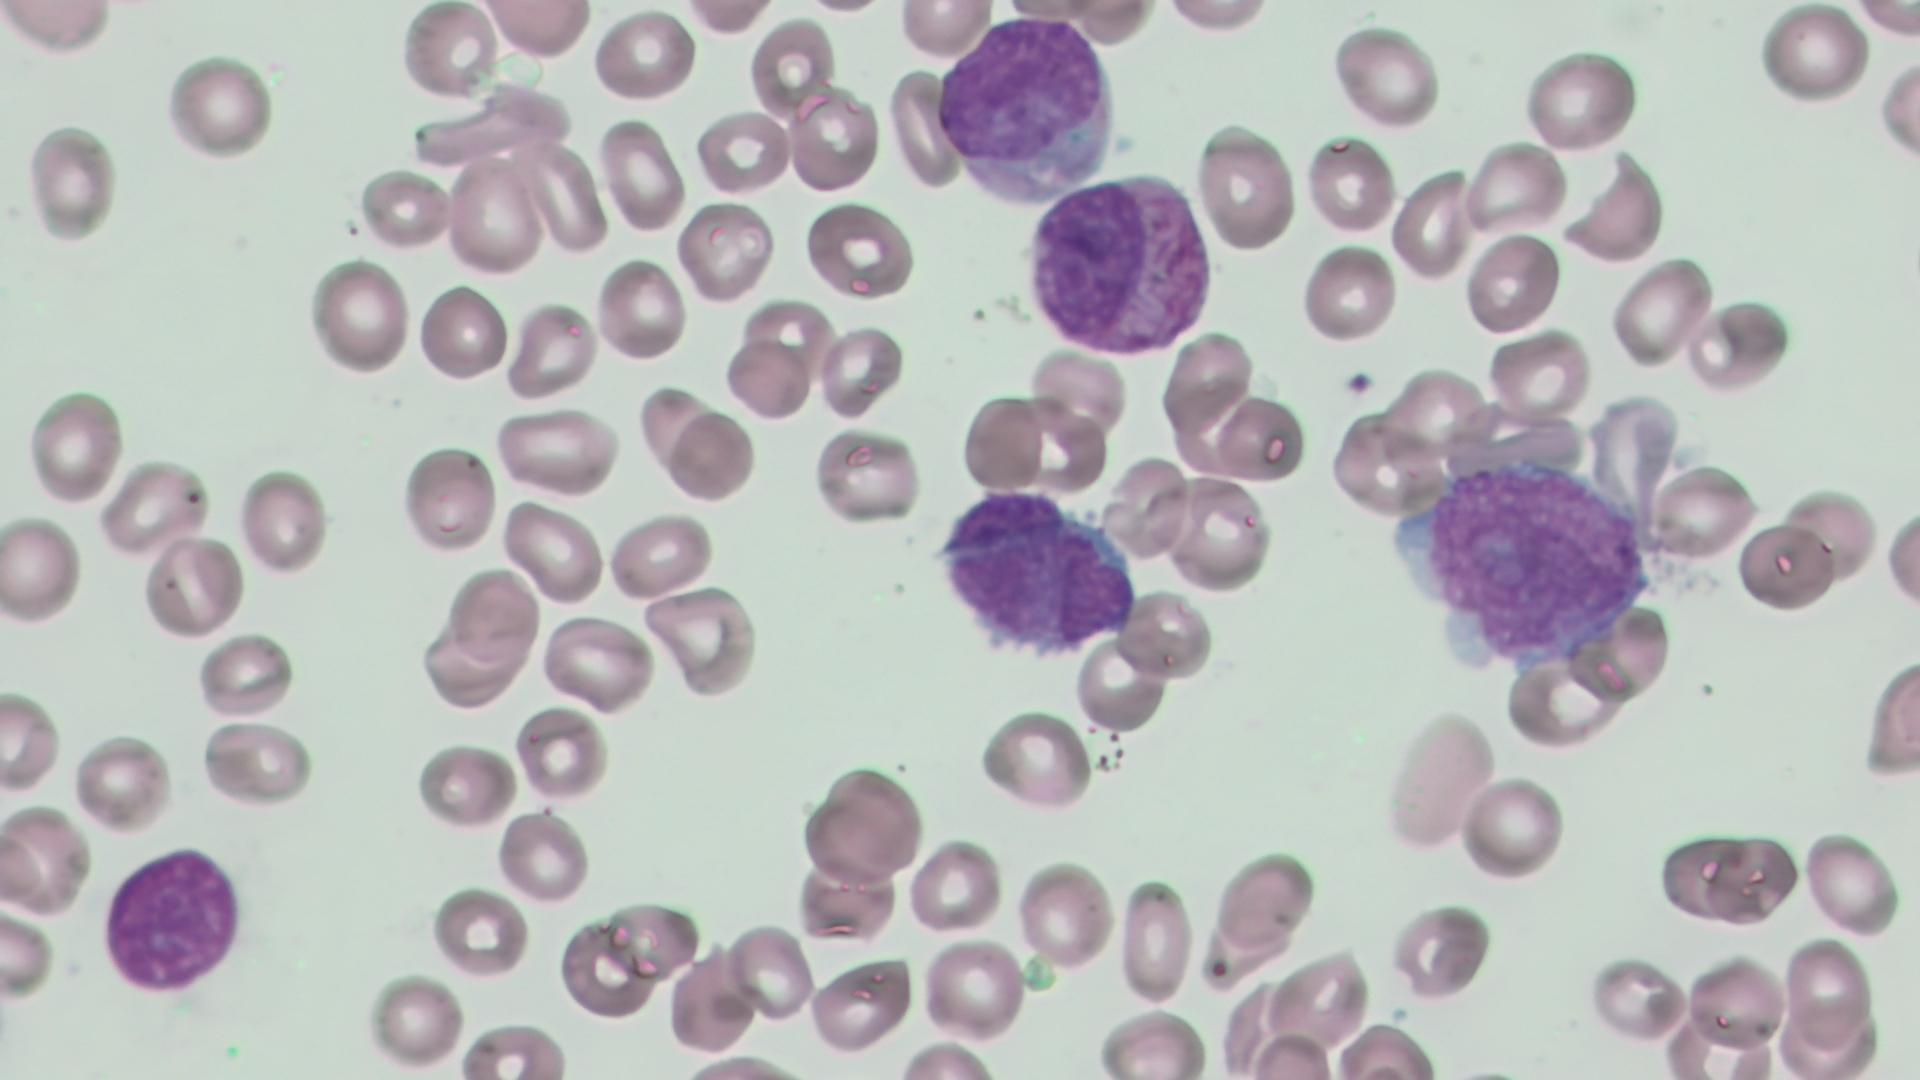RBC: (1379, 709, 1499, 853), (1194, 119, 1299, 255), (803, 764, 926, 879), (162, 50, 279, 169), (1520, 45, 1642, 156), (642, 584, 757, 700), (21, 119, 120, 252), (306, 255, 411, 380), (445, 153, 548, 277), (1165, 472, 1271, 592), (1680, 829, 1803, 931), (1329, 20, 1442, 130), (1754, 2, 1868, 111), (141, 528, 248, 642), (979, 706, 1091, 814), (802, 197, 916, 303), (23, 385, 122, 507), (1263, 947, 1372, 1057), (1608, 254, 1713, 368), (1502, 654, 1624, 752), (1013, 857, 1117, 971), (513, 136, 609, 259), (1800, 826, 1905, 938), (916, 934, 1028, 1039), (1641, 461, 1758, 561), (492, 404, 619, 496), (1459, 775, 1566, 884), (810, 424, 924, 526), (540, 613, 654, 715), (500, 497, 606, 606), (399, 440, 498, 556), (1388, 898, 1495, 1004), (1780, 932, 1876, 1049), (1298, 238, 1399, 347), (98, 456, 208, 556), (236, 462, 330, 579), (1586, 950, 1694, 1051), (557, 915, 657, 1024), (595, 115, 686, 234), (1684, 951, 1790, 1053), (364, 969, 468, 1072), (1462, 231, 1562, 338), (788, 83, 882, 195), (71, 732, 172, 836), (414, 278, 511, 386), (417, 621, 532, 712), (399, 0, 501, 102), (591, 6, 698, 103), (199, 718, 313, 809), (2, 802, 92, 917), (810, 953, 912, 1054), (676, 200, 775, 304), (1160, 327, 1255, 435), (886, 64, 968, 189), (1072, 632, 1170, 736), (1117, 877, 1196, 1006), (1303, 130, 1397, 238), (594, 254, 687, 362), (1484, 326, 1593, 418), (1101, 452, 1192, 562), (1732, 519, 1834, 616), (1463, 139, 1566, 235), (431, 882, 531, 980), (410, 739, 515, 832), (444, 565, 542, 664), (0, 513, 86, 625), (604, 509, 712, 598), (511, 705, 609, 803), (494, 808, 591, 907), (504, 299, 599, 400), (723, 922, 816, 1025), (746, 14, 835, 120), (908, 836, 1004, 934), (666, 947, 753, 1054), (1389, 166, 1472, 277), (1119, 588, 1215, 683), (959, 389, 1045, 495), (694, 106, 793, 197), (195, 631, 297, 719), (815, 322, 901, 421), (665, 406, 753, 502), (605, 896, 702, 981), (1094, 1007, 1210, 1078), (1216, 394, 1306, 485), (358, 165, 450, 251), (722, 335, 812, 422), (455, 1018, 572, 1079), (1866, 653, 1920, 785), (0, 890, 58, 1006), (479, 1, 595, 59), (0, 687, 61, 795), (1332, 1018, 1437, 1078), (894, 1, 996, 60), (1874, 47, 1918, 176), (1881, 498, 1920, 627), (891, 1036, 999, 1078), (1249, 1028, 1334, 1078), (1158, 2, 1274, 35), (676, 1, 782, 36)
WBC: (1385, 432, 1666, 676), (1018, 168, 1218, 361), (934, 7, 1124, 208), (928, 481, 1139, 658), (95, 838, 255, 1002)
